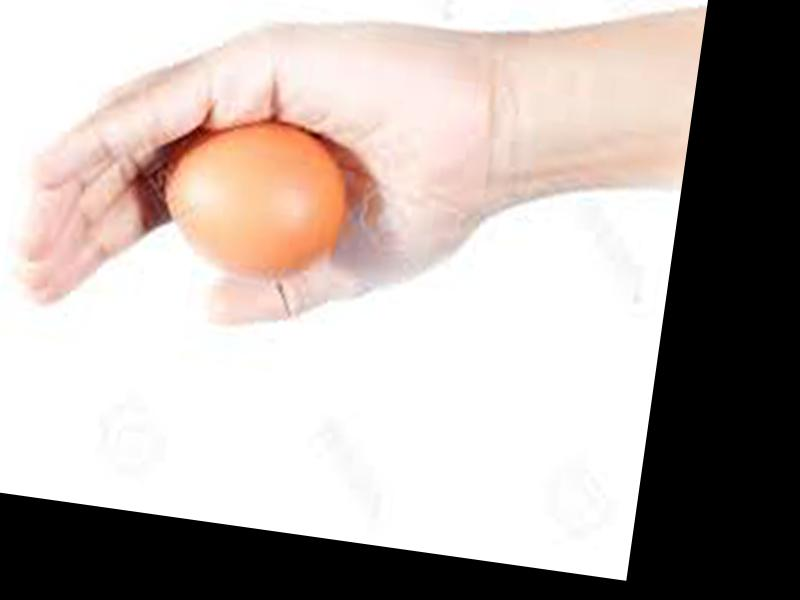Eggs: (157, 113, 354, 287)
